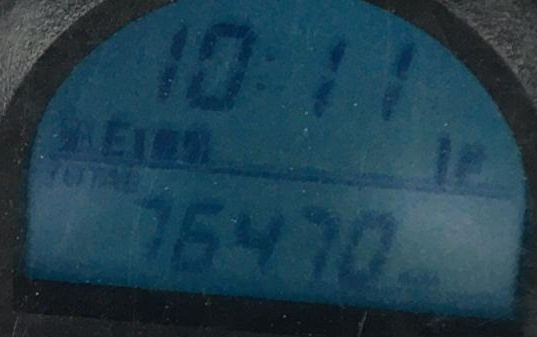0: (187, 18, 255, 113), (342, 205, 392, 288)
1: (150, 14, 197, 107), (310, 29, 352, 128), (375, 33, 420, 125)
4: (230, 200, 284, 271)
6: (175, 195, 223, 275)
7: (296, 195, 346, 287), (131, 192, 173, 267)
X: (452, 138, 488, 185), (100, 113, 132, 160), (60, 162, 83, 191), (86, 162, 105, 194), (102, 163, 119, 196), (44, 158, 63, 187)
